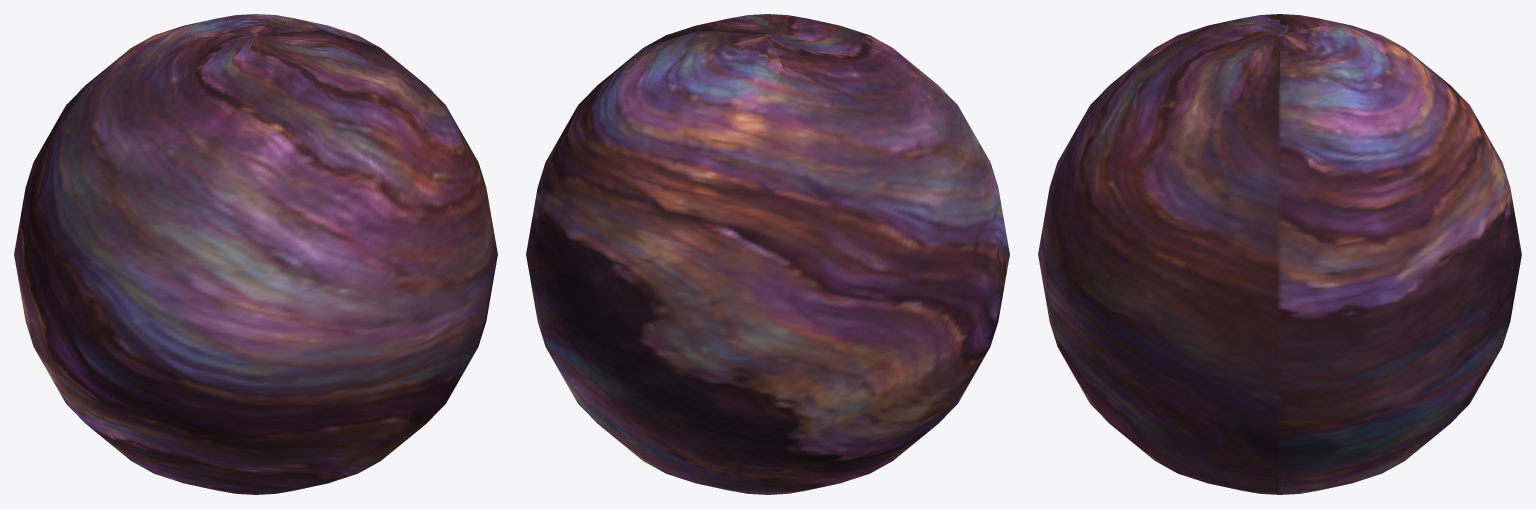
File: item_blkperl.glb
3 views of the same model, side by side, from view 1: azimuth 30°, elevation 25°; view 2: azimuth 150°, elevation 25°; view 3: azimuth 270°, elevation 25° (orthographic).
Parts seen in each view (by area): view 1: props_blkperl; view 2: props_blkperl; view 3: props_blkperl.
Boxes of the visible parts, x1,y1,x2,y2 form: props_blkperl: [14, 14, 497, 494]; props_blkperl: [526, 14, 1009, 494]; props_blkperl: [1038, 14, 1521, 494].
Size of the model in its own units: 0.9 by 0.8999 by 0.9.
1 material, 1 textured.
